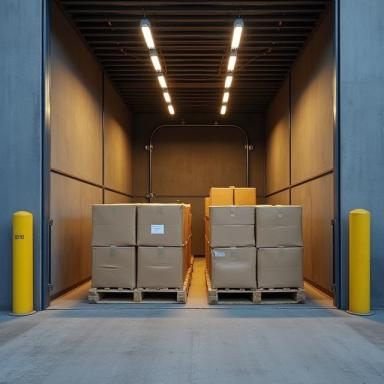pallet: (88, 255, 194, 304), (204, 267, 306, 305), (261, 292, 293, 301), (142, 292, 177, 300), (218, 292, 251, 298), (103, 292, 134, 298)
